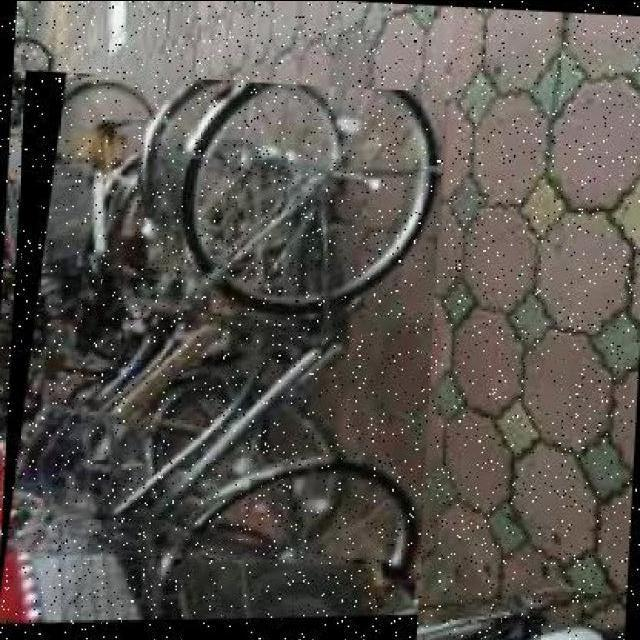bicycle: (1, 69, 447, 640)
